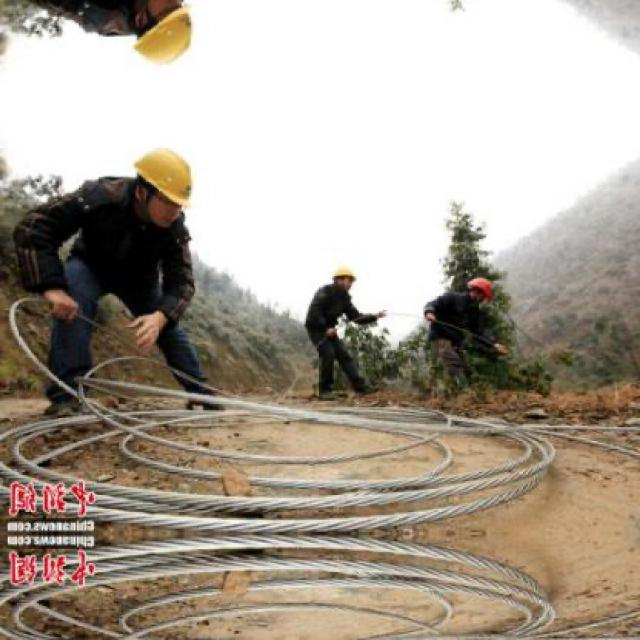helmet: (128, 142, 203, 228), (128, 0, 205, 72), (463, 277, 497, 307), (331, 264, 358, 293)
